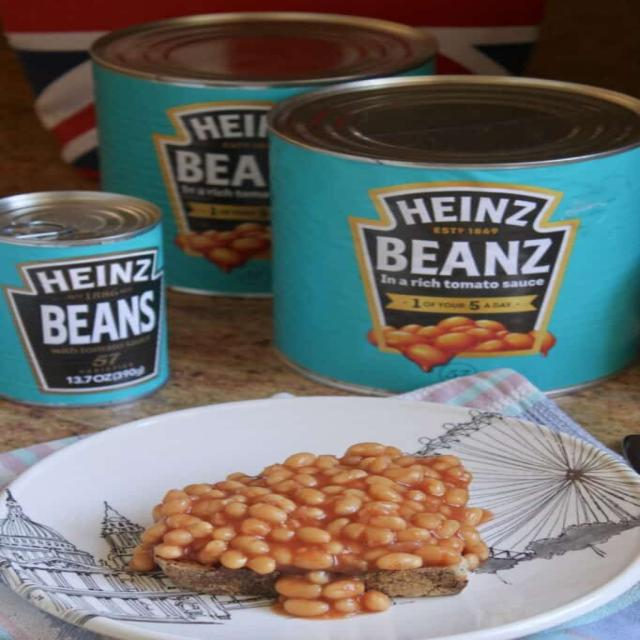sliced_bread: (162, 561, 282, 596), (159, 560, 277, 595), (359, 562, 467, 597)
